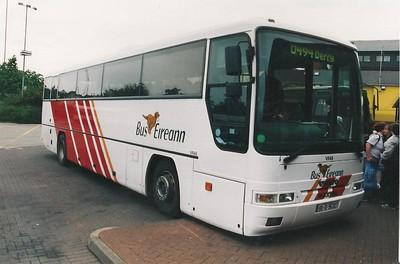bus: (38, 15, 365, 242)
